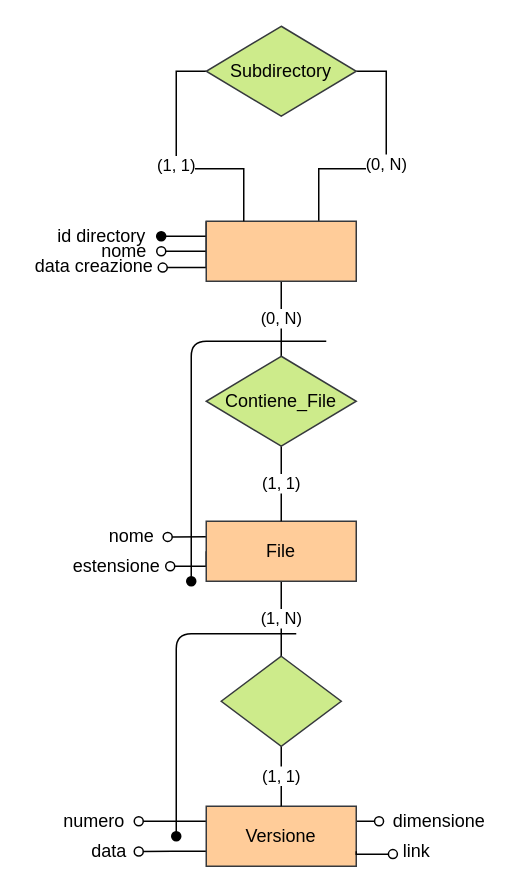
The diagram is 524 pixels wide and 893 high, and some of its shapes have lost their labels. Each missing label, with the centre of its shape:
Directory: point (280, 250)
Versionato: point (280, 700)
